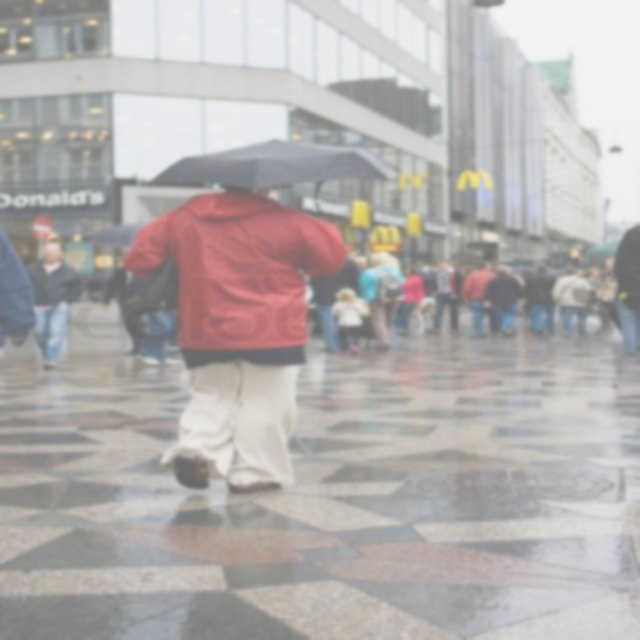pessoa: (122, 184, 350, 496), (24, 242, 84, 370), (306, 256, 363, 354), (356, 250, 408, 352), (0, 224, 37, 367), (100, 264, 146, 358), (610, 221, 639, 357), (457, 259, 502, 337), (548, 264, 594, 338), (480, 262, 525, 337), (328, 286, 372, 356), (425, 259, 465, 336), (132, 311, 185, 366), (389, 262, 425, 337), (526, 261, 560, 337), (581, 266, 611, 336), (412, 261, 438, 336), (78, 269, 107, 304), (504, 265, 534, 288), (456, 260, 476, 278), (354, 254, 369, 268)
